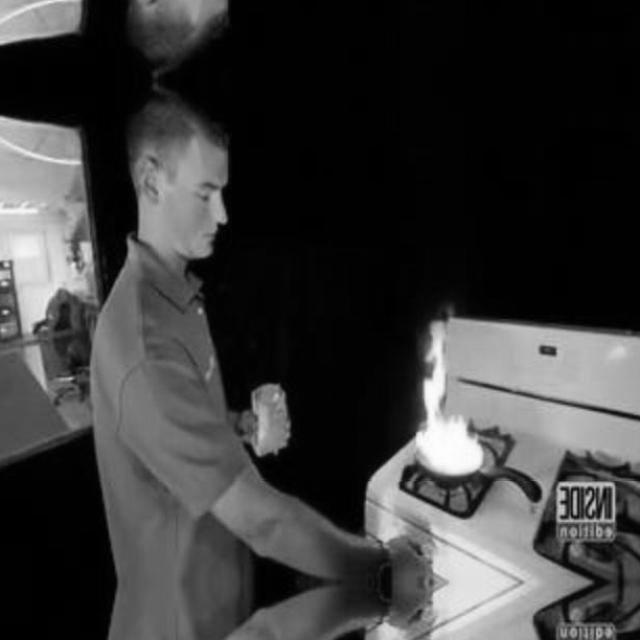smoke: (408, 344, 486, 478)
